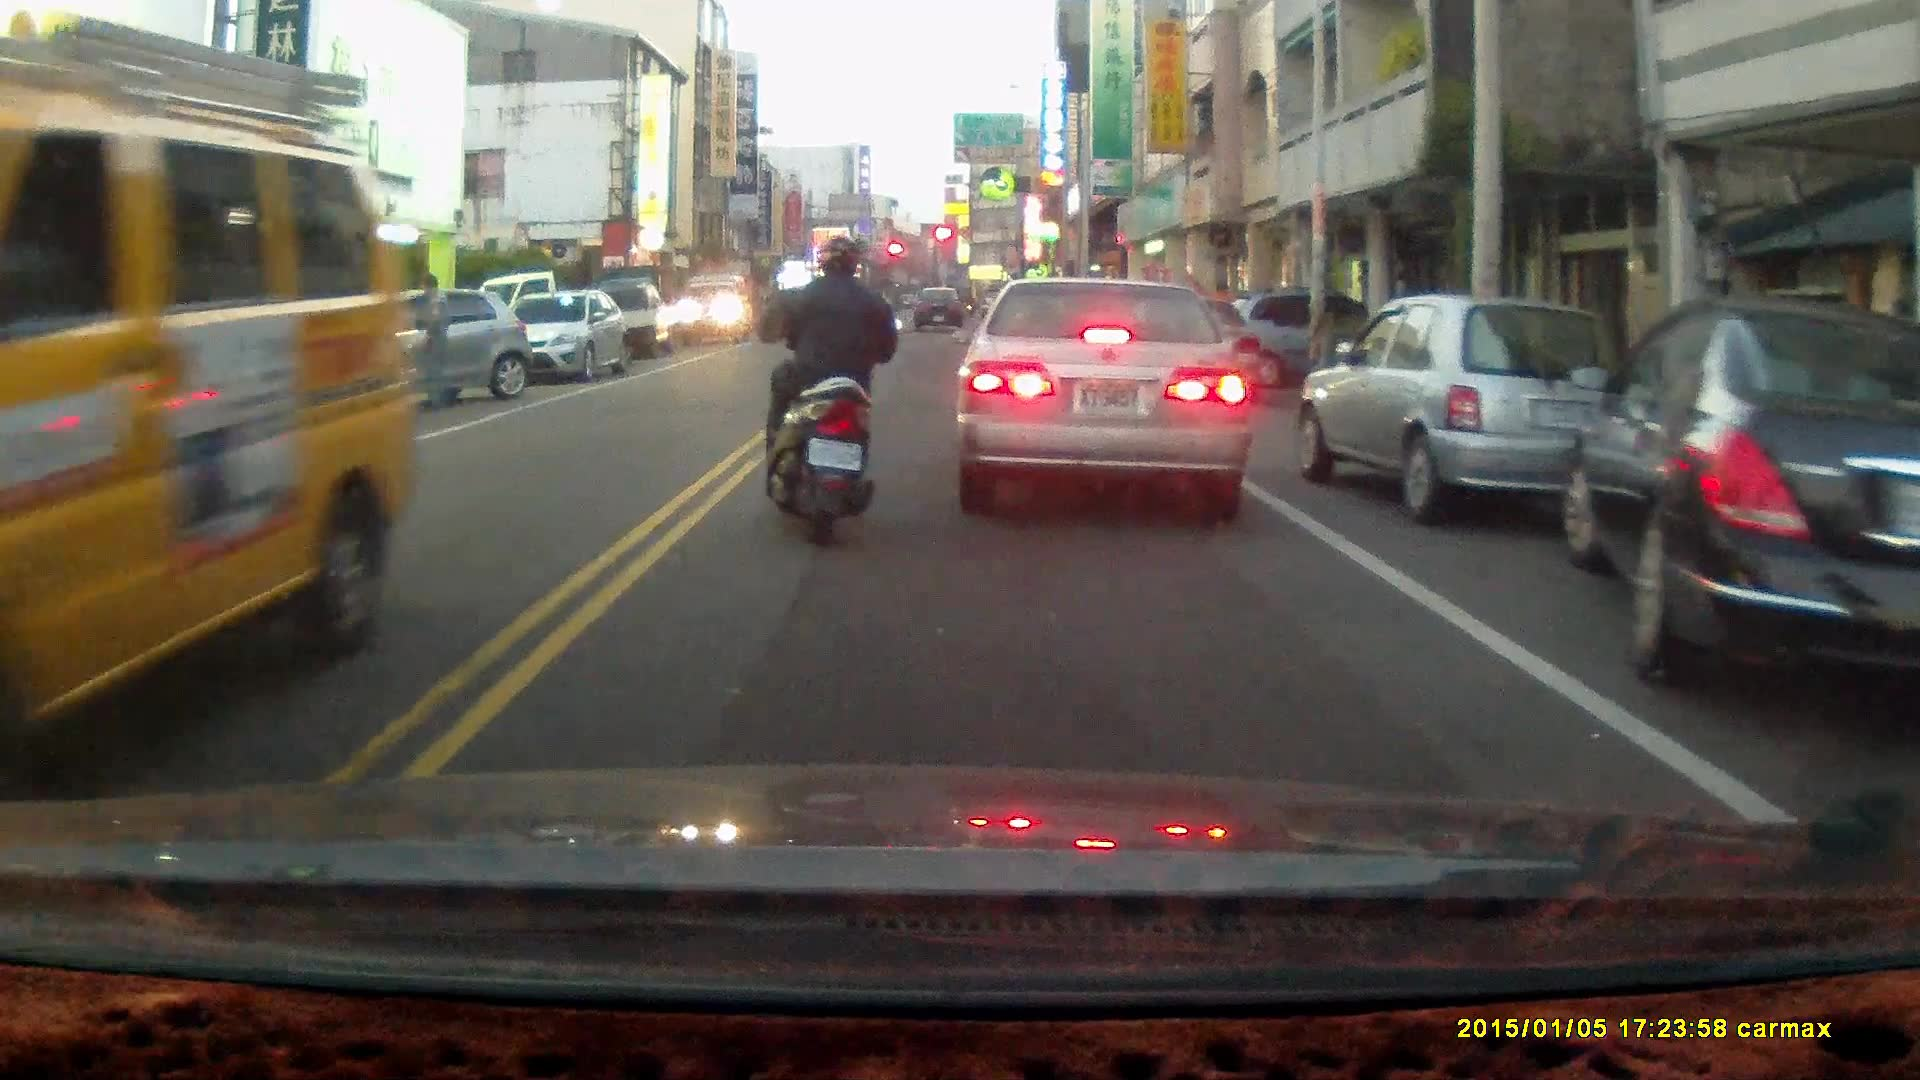pedestrian: (407, 272, 452, 416)
rider: (767, 237, 912, 554)
vehicle: (1, 44, 422, 801), (1557, 298, 1920, 724), (1294, 298, 1629, 530), (955, 275, 1256, 515), (312, 281, 530, 408), (512, 287, 636, 385), (676, 274, 761, 344)
